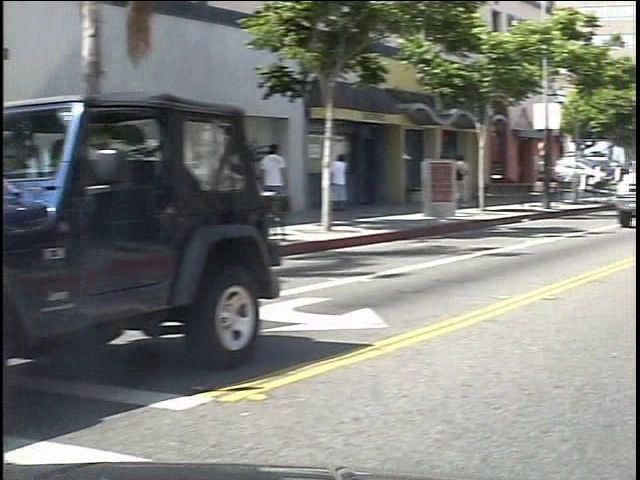person: (276, 141, 311, 235), (344, 142, 367, 225), (472, 154, 489, 211)
